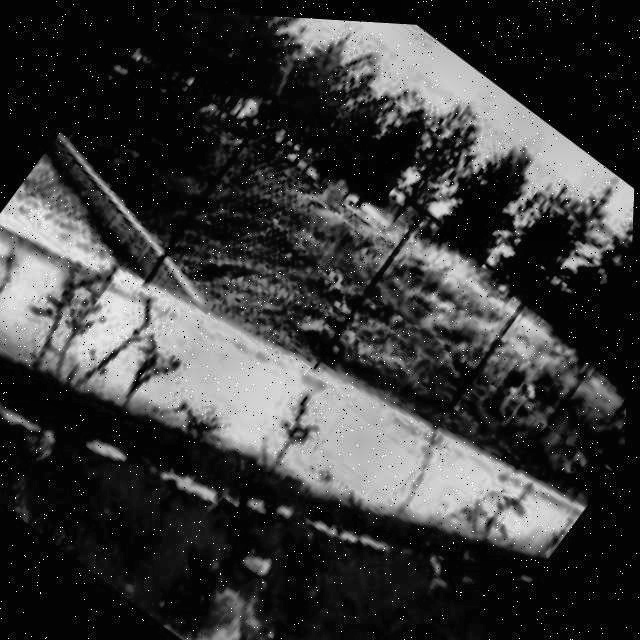Fire: (163, 548, 330, 640)
